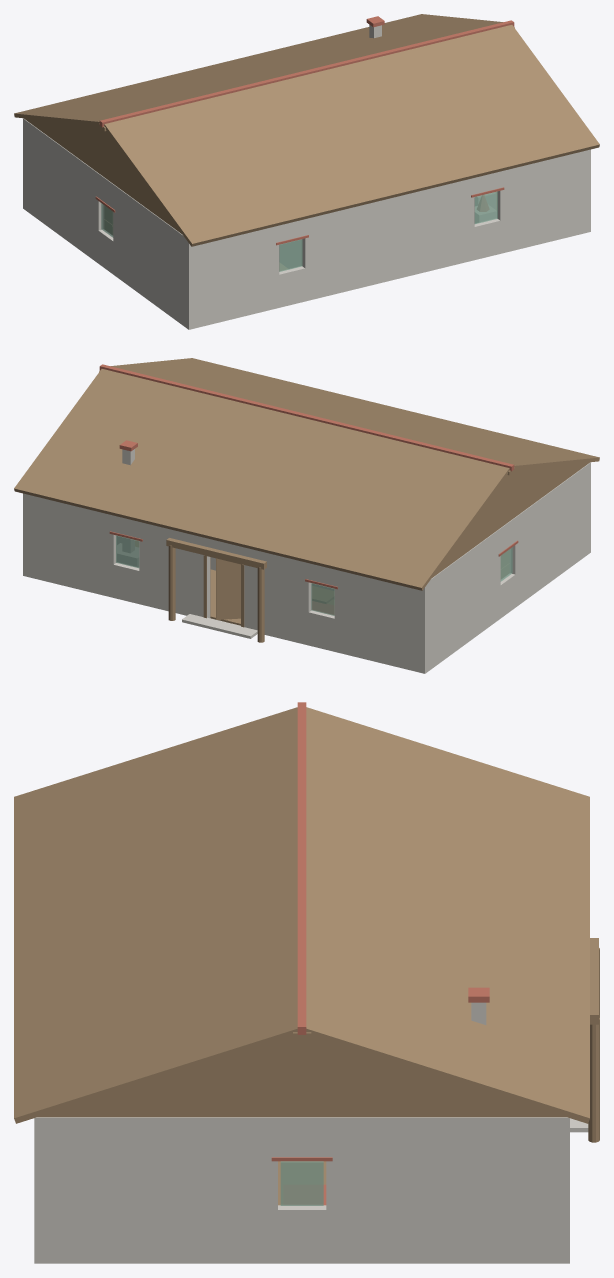
The model's file is 18-Casas_casa_mansion.glb.
3 views of the same model, one above another, from view 1: azimuth 30°, elevation 25°; view 2: azimuth 150°, elevation 25°; view 3: azimuth 270°, elevation 25° (orthographic). The views are drawn at different scales.
Parts seen in each view (by area): view 1: SM_Mansion_M_Mansion_Madera, SM_Mansion_M_Mansion_Piedra, SM_Mansion_M_Mansion_Acento, SM_Mansion_Zocalo_NOFUNDIR, SM_Mansion_M_Mansion_Jade, SM_Mansion_Pedestal_NOFUNDIR; view 2: SM_Mansion_M_Mansion_Madera, SM_Mansion_M_Mansion_Piedra, SM_Mansion_Zocalo_NOFUNDIR, SM_Mansion_M_Mansion_Acento, SM_Mansion_M_Mansion_Jade, SM_Mansion_Pedestal_NOFUNDIR; view 3: SM_Mansion_M_Mansion_Madera, SM_Mansion_M_Mansion_Piedra, SM_Mansion_Zocalo_NOFUNDIR, SM_Mansion_M_Mansion_Acento, SM_Mansion_M_Mansion_Jade.
Boxes of the visible parts, x1=… form: SM_Mansion_M_Mansion_Madera: x1=14, y1=14, x2=599, y2=270; SM_Mansion_M_Mansion_Piedra: x1=23, y1=118, x2=590, y2=329; SM_Mansion_M_Mansion_Acento: x1=95, y1=16, x2=514, y2=245; SM_Mansion_Zocalo_NOFUNDIR: x1=23, y1=202, x2=514, y2=329; SM_Mansion_M_Mansion_Jade: x1=101, y1=191, x2=497, y2=271; SM_Mansion_Pedestal_NOFUNDIR: x1=369, y1=25, x2=496, y2=222; SM_Mansion_M_Mansion_Madera: x1=14, y1=358, x2=599, y2=642; SM_Mansion_M_Mansion_Piedra: x1=23, y1=462, x2=590, y2=673; SM_Mansion_Zocalo_NOFUNDIR: x1=23, y1=544, x2=590, y2=672; SM_Mansion_M_Mansion_Acento: x1=99, y1=364, x2=518, y2=614; SM_Mansion_M_Mansion_Jade: x1=116, y1=535, x2=512, y2=615; SM_Mansion_Pedestal_NOFUNDIR: x1=117, y1=449, x2=257, y2=638; SM_Mansion_M_Mansion_Madera: x1=14, y1=707, x2=599, y2=1205; SM_Mansion_M_Mansion_Piedra: x1=34, y1=1117, x2=569, y2=1263; SM_Mansion_Zocalo_NOFUNDIR: x1=34, y1=1249, x2=569, y2=1263; SM_Mansion_M_Mansion_Acento: x1=271, y1=702, x2=489, y2=1205; SM_Mansion_M_Mansion_Jade: x1=280, y1=1161, x2=323, y2=1205.
Bounding box in the file's own units: 14.34 × 4.95 × 10.94.
